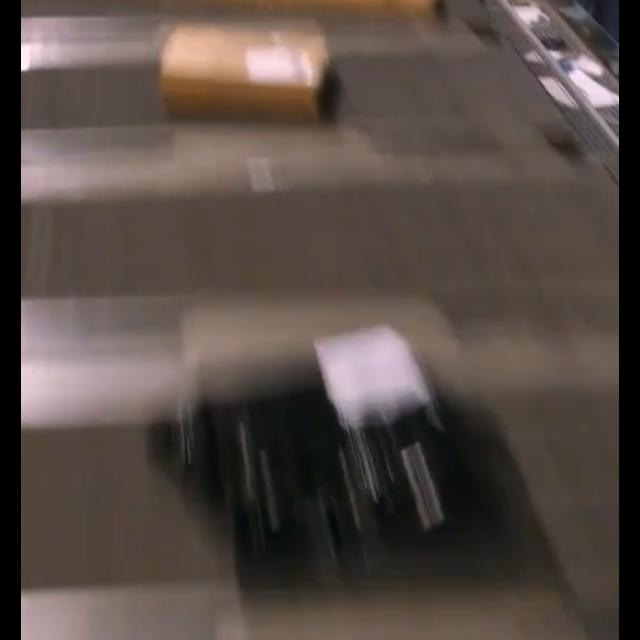box: (162, 28, 332, 118)
mailer: (187, 358, 471, 562)
